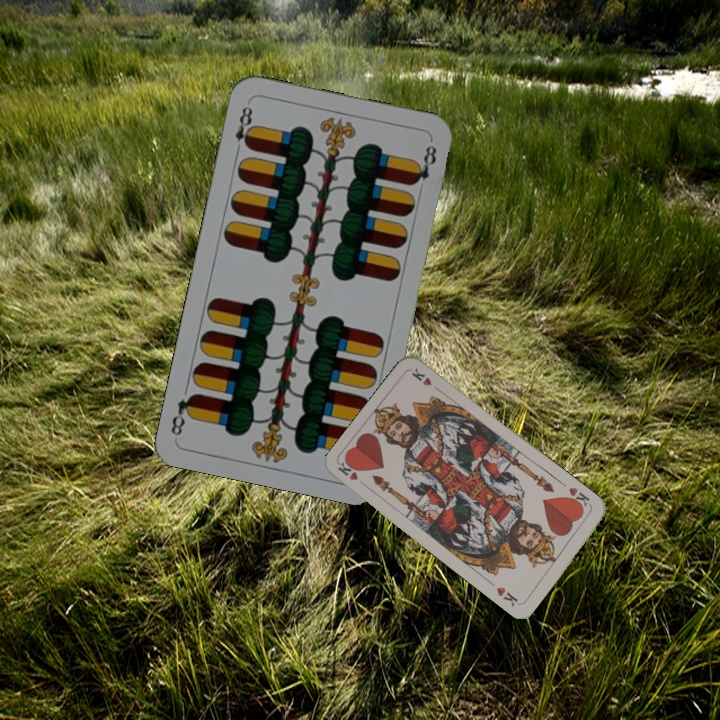E8: (231, 102, 257, 157)
HK: (334, 457, 371, 491), (563, 483, 595, 513)
